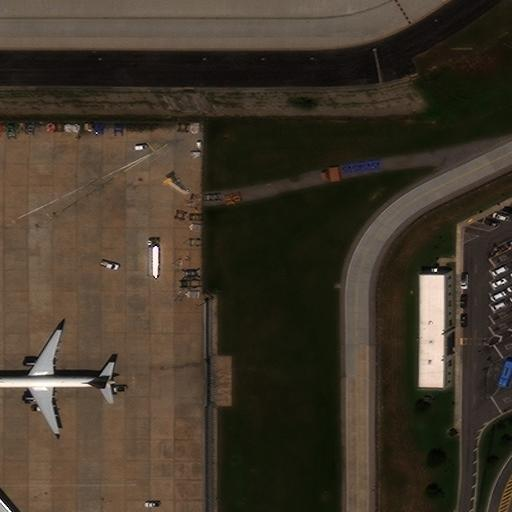Large Civil Transport: (0, 329, 118, 435)
